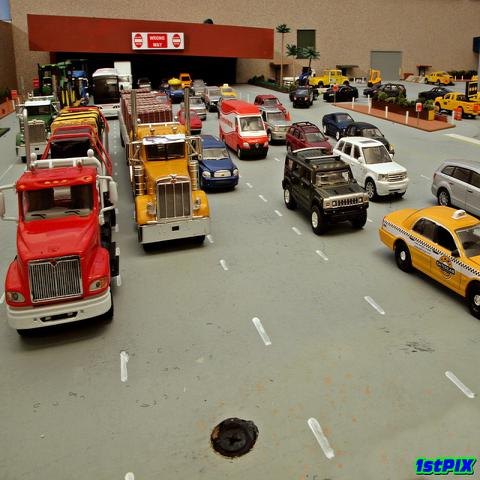bus: (92, 67, 121, 119)
car: (137, 71, 455, 159), (376, 204, 480, 317), (331, 134, 410, 201), (432, 158, 479, 218), (199, 134, 239, 191), (345, 120, 395, 156), (285, 118, 332, 153), (257, 106, 291, 144), (322, 114, 356, 142), (254, 94, 287, 118), (292, 84, 315, 110), (190, 96, 206, 122)
truck: (3, 102, 121, 338), (121, 88, 209, 241), (281, 146, 369, 236), (15, 60, 89, 164), (333, 136, 409, 199), (218, 100, 270, 160), (434, 80, 480, 119), (309, 68, 350, 86), (292, 84, 314, 108), (114, 61, 132, 89)
